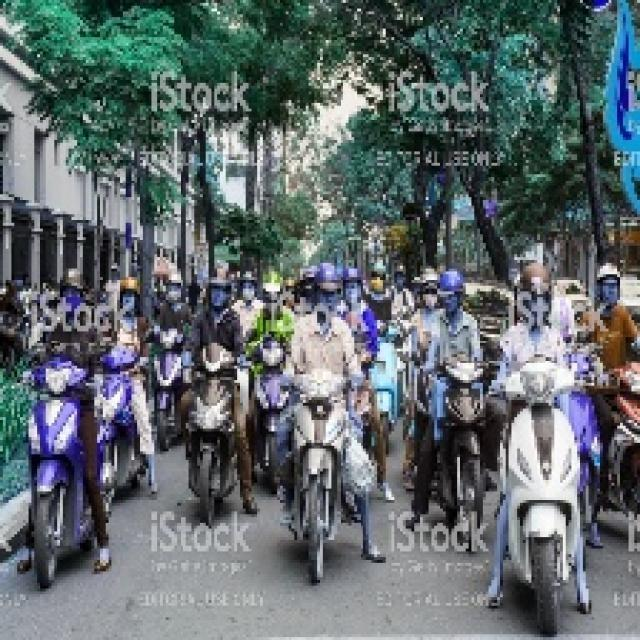Motorcycle: (492, 363, 586, 628), (271, 367, 354, 571), (408, 352, 492, 537), (23, 367, 88, 579), (196, 326, 242, 500), (136, 322, 186, 462)
